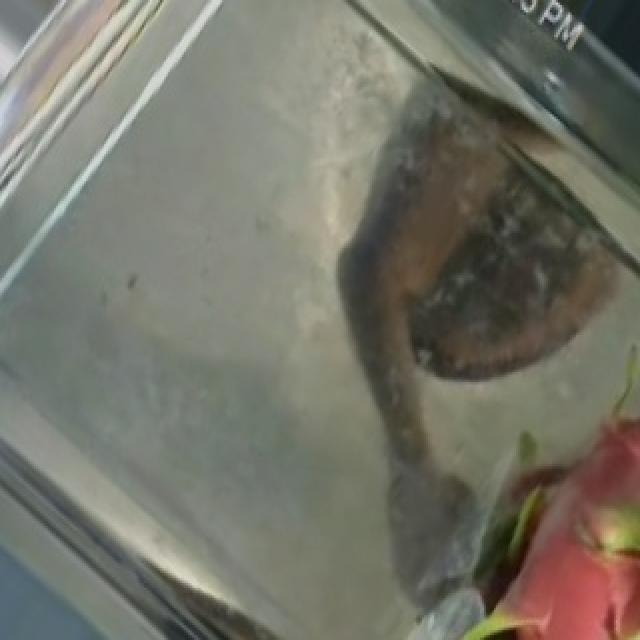fruit: (352, 335, 640, 640)
